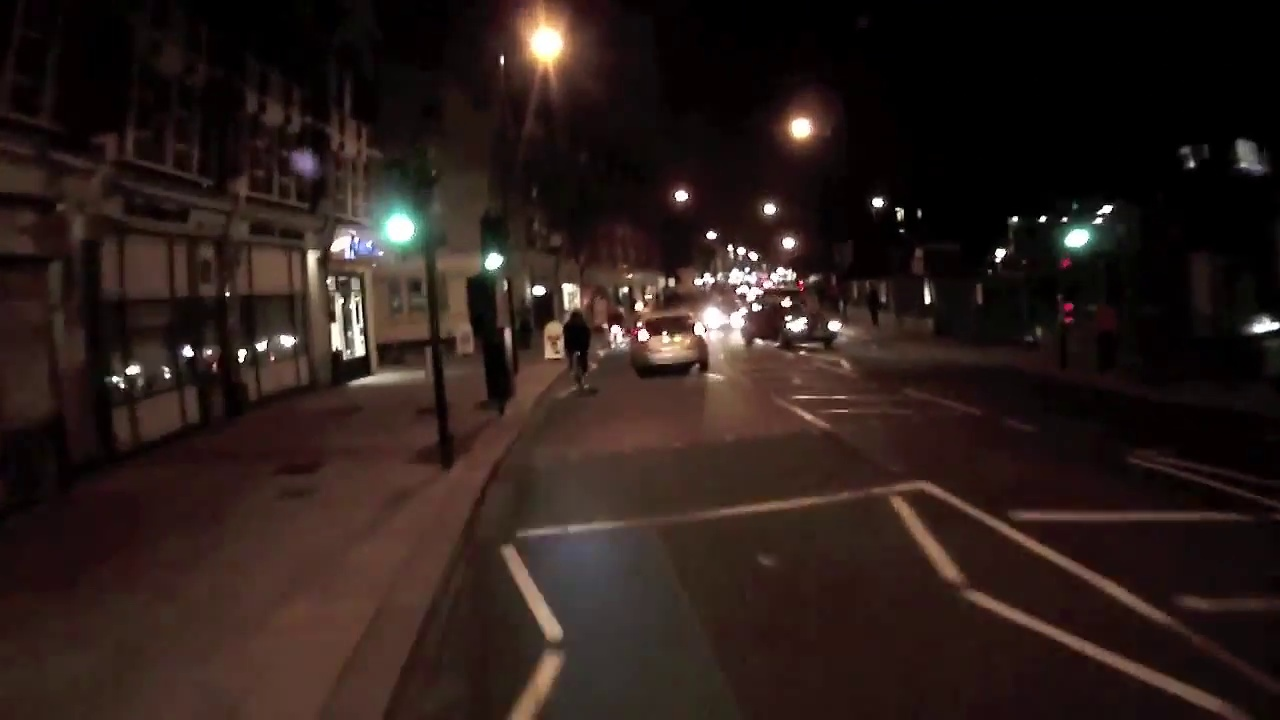cyclist_back: (558, 304, 597, 395)
